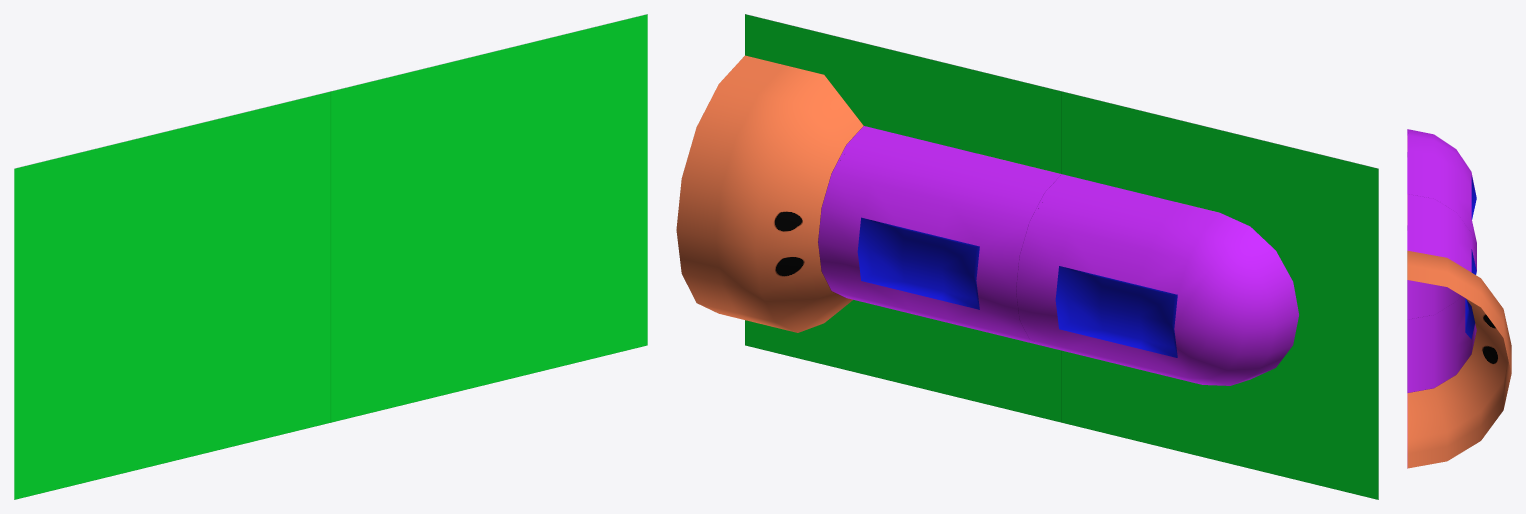
The model's file is 1x2_Sngl.fbx.
3 views of the same model, side by side, from view 1: azimuth 30°, elevation 25°; view 2: azimuth 150°, elevation 25°; view 3: azimuth 270°, elevation 25° (orthographic). The views are drawn at different scales.
Visible parts, largest first — view 1: Panel_1x2_Sngl_End; view 2: Panel_1x2_Sngl_End; view 3: Panel_1x2_Sngl_End.
Part boxes in pixels (x1,y1,x2,y2): Panel_1x2_Sngl_End: (14,14,647,499); Panel_1x2_Sngl_End: (676,14,1378,499); Panel_1x2_Sngl_End: (1407,129,1511,468).
Size of the model in its own units: 200 by 100 by 37.5.
